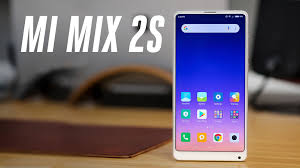mi: (172, 9, 249, 162)
